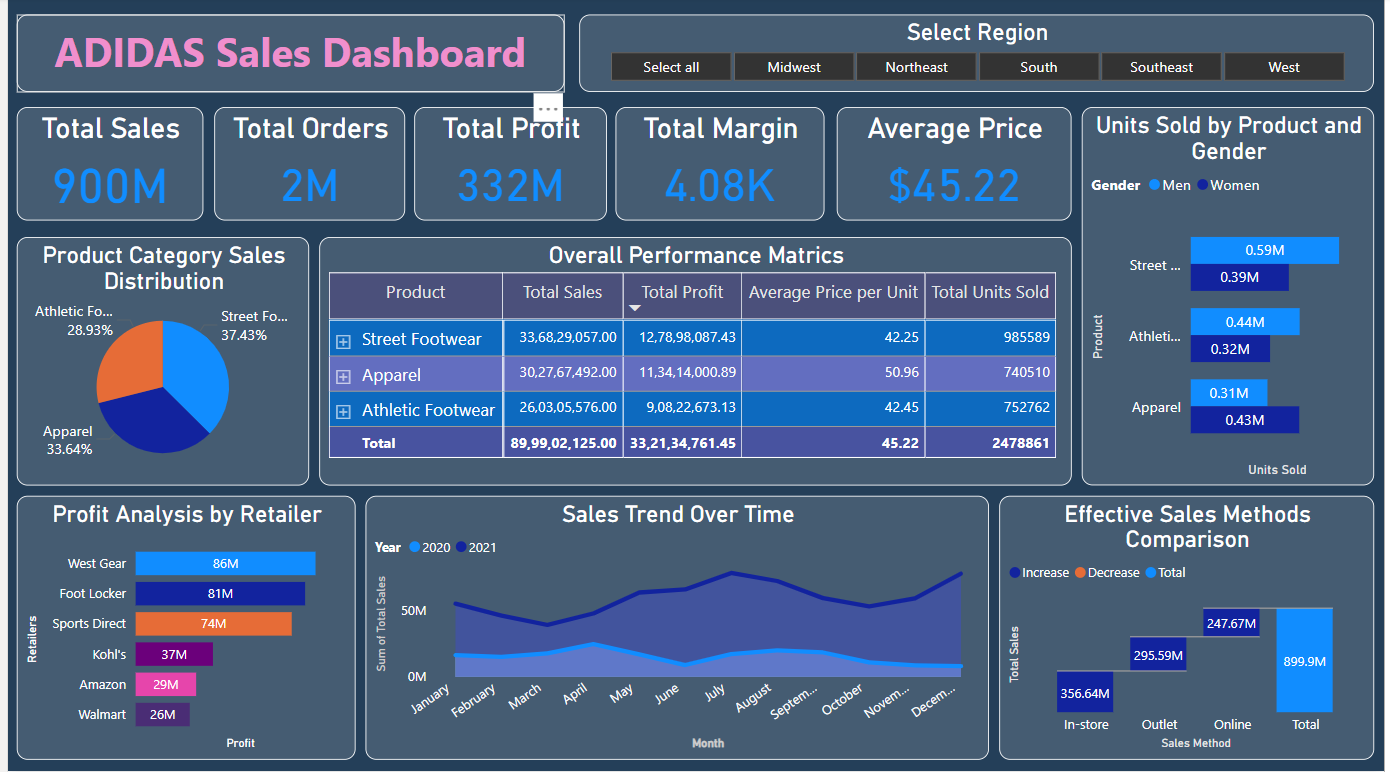

Layout of this report page (visuals, bound fields, positions):
{"tool":"powerbi","page":{"name":"Dashboard","canvas":[1280,720],"ordinal":0},"visuals":[{"type":"pivotTable","title":"Overall Performance Matrics","fields":{"Rows":["Data Sales Adidas.Product","Data Sales Adidas.Gender"],"Values":["Sum(Data Sales Adidas.Total Sales)","Sum(Data Sales Adidas.Operating Profit)","Avg(Data Sales Adidas.Price per Unit)","Sum(Data Sales Adidas.Units Sold)"]},"box":[289.5,223.3,700,231.4],"z":0},{"type":"barChart","title":" Profit Analysis by Retailer ","fields":{"Category":["Data Sales Adidas.Retailer"],"Y":["Sum(Data Sales Adidas.Operating Profit)"],"Series":["Data Sales Adidas.Retailer"]},"box":[8.1,464,315.1,245.3],"z":1000},{"type":"areaChart","title":"Sales Trend Over Time","fields":{"Y":["Sum(Data Sales Adidas.Total Sales)"],"Series":["Data Sales Adidas.Invoice Date.Variation.Date Hierarchy.Year"],"Category":["Data Sales Adidas.Invoice Date.Variation.Date Hierarchy.Quarter","Data Sales Adidas.Invoice Date.Variation.Date Hierarchy.Month","Data Sales Adidas.Invoice Date.Variation.Date Hierarchy.Day"]},"box":[332.6,464,580.2,245.3],"z":2000},{"type":"pieChart","title":"Product Category Sales Distribution","fields":{"Category":["Data Sales Adidas.Product"],"Y":["Sum(Data Sales Adidas.Total Sales)"]},"box":[8.1,223.3,272.1,231.4],"z":3000},{"type":"waterfallChart","title":"Effective Sales Methods Comparison","fields":{"Category":["Data Sales Adidas.Sales Method"],"Y":["Sum(Data Sales Adidas.Total Sales)"]},"box":[922.1,464,348.8,245.3],"z":4000},{"type":"textbox","box":[8.1,16.3,509.3,72.1],"z":5000},{"type":"card","title":"Total  Sales","fields":{"Values":["Data Sales Adidas.total_sales"]},"box":[8.1,102.3,173.3,105.8],"z":6000},{"type":"card","title":"Total Orders","fields":{"Values":["Data Sales Adidas.total_orders"]},"box":[191.9,102.3,177.9,105.8],"z":7000},{"type":"card","title":"Total Profit","fields":{"Values":["Data Sales Adidas.total_profit"]},"box":[377.9,102.3,179.1,105.8],"z":8000},{"type":"card","title":"Total Margin","fields":{"Values":["Data Sales Adidas.total_margin"]},"box":[565.1,102.3,194.2,105.8],"z":9000},{"type":"card","title":"Average Price ","fields":{"Values":["Data Sales Adidas.avg_price_per_unit"]},"box":[770.9,102.3,218.6,105.8],"z":10000},{"type":"clusteredBarChart","title":"Units Sold by Product and Gender","fields":{"Category":["Data Sales Adidas.Product"],"Y":["Sum(Data Sales Adidas.Units Sold)"],"Series":["Data Sales Adidas.Gender"]},"box":[998.8,102.3,272.1,352.3],"z":11000},{"type":"slicer","title":"Select Region","fields":{"Values":["Data Sales Adidas.Region"]},"box":[531.4,16.3,739.5,72.1],"z":12000}]}

Visuals, with their boxes in screenshot pixels (x1, y1, x2, y2), scaled from the page's 1280x720 canvas onto the 1390x772 screenshot:
"Overall Performance Matrics" pivotTable: <box>314,239,1075,488</box>
" Profit Analysis by Retailer " barChart: <box>9,498,351,761</box>
"Sales Trend Over Time" areaChart: <box>361,498,991,761</box>
"Product Category Sales Distribution" pieChart: <box>9,239,304,488</box>
"Effective Sales Methods Comparison" waterfallChart: <box>1001,498,1380,761</box>
textbox: <box>9,17,562,95</box>
"Total  Sales" card: <box>9,110,197,223</box>
"Total Orders" card: <box>208,110,402,223</box>
"Total Profit" card: <box>410,110,605,223</box>
"Total Margin" card: <box>614,110,825,223</box>
"Average Price " card: <box>837,110,1075,223</box>
"Units Sold by Product and Gender" clusteredBarChart: <box>1085,110,1380,487</box>
"Select Region" slicer: <box>577,17,1380,95</box>
